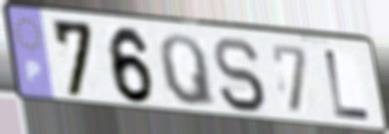6: (106, 24, 160, 106)
7: (49, 16, 97, 100), (270, 42, 310, 116)
L: (322, 47, 374, 123)
Q: (156, 32, 220, 111)
S: (211, 35, 269, 115)
